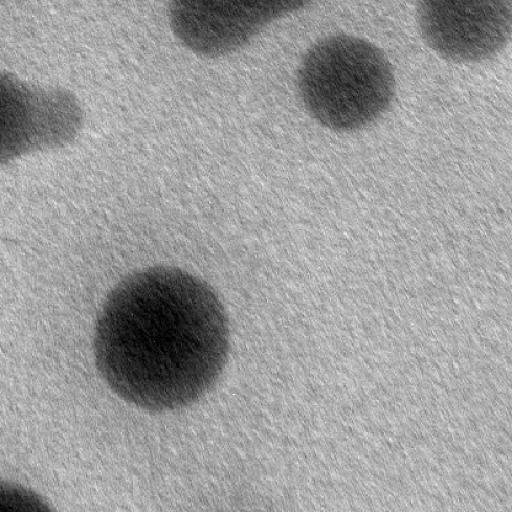Nanoparticles: (90, 264, 232, 408), (296, 34, 396, 128), (170, 1, 311, 54), (0, 70, 78, 160), (422, 2, 511, 59), (2, 481, 57, 512)
